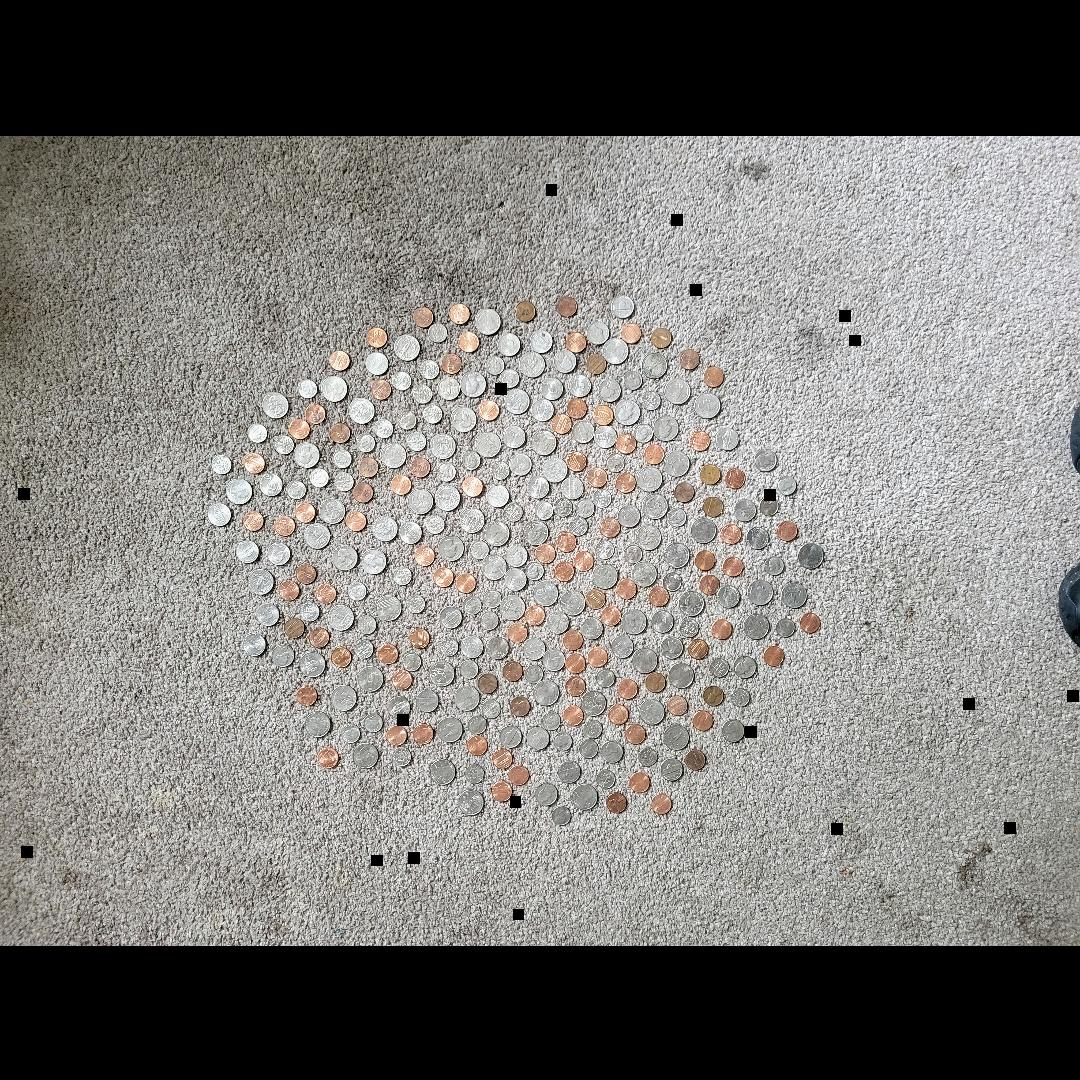Dime: (212, 454, 232, 474), (274, 434, 294, 454), (297, 378, 317, 398), (332, 448, 352, 468), (300, 601, 320, 621), (354, 638, 374, 658), (420, 358, 440, 378), (425, 514, 445, 534), (428, 322, 448, 342), (485, 354, 505, 374), (534, 500, 554, 520), (482, 698, 502, 718), (633, 422, 653, 442), (776, 474, 796, 494), (759, 496, 779, 516), (286, 480, 306, 498), (356, 432, 374, 452), (348, 580, 366, 600), (392, 566, 412, 584), (406, 594, 426, 612), (406, 432, 426, 450), (375, 418, 393, 438), (392, 371, 412, 389), (397, 410, 417, 428), (460, 451, 480, 469), (469, 540, 489, 558), (462, 595, 482, 613), (439, 637, 459, 655), (403, 651, 421, 671), (392, 746, 410, 766), (554, 496, 572, 516), (568, 516, 588, 534), (623, 370, 643, 388), (524, 561, 544, 579), (468, 714, 486, 734), (552, 806, 572, 824), (542, 710, 560, 730), (580, 738, 598, 758), (730, 688, 750, 706), (709, 658, 729, 676), (662, 572, 682, 590), (642, 390, 660, 410), (764, 556, 784, 574), (310, 468, 330, 486), (334, 472, 354, 490), (437, 462, 456, 480), (499, 369, 518, 387), (503, 503, 522, 521), (466, 764, 484, 783), (248, 424, 266, 442), (342, 724, 360, 742), (364, 713, 382, 731), (576, 499, 594, 517), (596, 540, 614, 558), (606, 453, 624, 471), (483, 588, 501, 606), (480, 611, 498, 629), (554, 732, 572, 750), (584, 719, 602, 737), (597, 769, 615, 787), (680, 618, 698, 636), (624, 545, 642, 563), (596, 668, 614, 686), (668, 508, 686, 526), (776, 618, 794, 636), (460, 660, 478, 678), (412, 386, 432, 402), (592, 490, 612, 506), (358, 615, 376, 632), (524, 666, 542, 683), (639, 747, 657, 764), (424, 406, 442, 422), (492, 461, 508, 479)
Nickel: (226, 478, 252, 503), (242, 632, 266, 656), (208, 503, 232, 525), (256, 603, 280, 625), (497, 333, 521, 355), (530, 398, 554, 420), (568, 374, 592, 396), (560, 477, 584, 499), (461, 634, 483, 658), (586, 321, 610, 343), (661, 756, 683, 780), (716, 427, 740, 449), (746, 527, 770, 549), (660, 636, 684, 658), (650, 610, 674, 632), (268, 542, 290, 565), (388, 695, 411, 717), (417, 689, 440, 711), (487, 484, 510, 506), (558, 760, 581, 782), (612, 294, 634, 317), (617, 504, 640, 526), (535, 782, 557, 805), (554, 348, 576, 371), (505, 544, 528, 566), (260, 473, 282, 495), (237, 540, 259, 562), (272, 644, 294, 666), (366, 352, 388, 374), (400, 521, 422, 543), (440, 605, 462, 627), (530, 330, 552, 352), (527, 475, 549, 497), (523, 637, 545, 659), (500, 725, 522, 747), (527, 727, 549, 749), (594, 425, 616, 447), (572, 420, 594, 442), (611, 635, 633, 657), (510, 453, 532, 475), (722, 719, 744, 741), (599, 378, 621, 400), (540, 377, 562, 399), (504, 568, 526, 590), (734, 498, 756, 520), (581, 616, 603, 638), (543, 648, 565, 670), (503, 425, 525, 447), (486, 636, 508, 658), (438, 378, 460, 399), (601, 741, 623, 762), (733, 656, 756, 676), (754, 450, 777, 470), (718, 586, 740, 606), (548, 612, 568, 632)
Penny: (648, 584, 669, 606), (317, 747, 338, 768), (567, 396, 587, 418), (552, 412, 572, 434), (616, 432, 636, 454), (679, 347, 699, 369), (721, 522, 741, 544), (294, 502, 316, 522), (366, 326, 388, 346), (390, 474, 412, 494), (244, 453, 266, 473), (408, 628, 430, 648), (288, 418, 310, 438), (448, 304, 470, 324), (457, 331, 479, 351), (478, 399, 500, 419), (703, 367, 724, 387), (698, 464, 719, 484), (703, 495, 723, 516), (617, 579, 638, 599), (645, 671, 666, 691), (711, 619, 732, 639), (777, 520, 798, 540), (279, 579, 299, 600), (330, 422, 351, 442), (525, 604, 545, 625), (462, 476, 482, 497), (536, 543, 556, 564), (557, 296, 578, 316), (586, 353, 606, 373), (593, 405, 613, 425), (556, 531, 576, 551), (554, 561, 574, 581), (563, 629, 583, 649), (565, 676, 585, 696), (563, 705, 583, 725), (606, 792, 626, 812), (629, 772, 649, 792), (652, 794, 672, 814), (625, 723, 645, 743), (608, 704, 628, 724), (600, 605, 620, 625), (621, 322, 641, 342), (652, 327, 672, 347), (690, 430, 710, 450), (644, 444, 664, 464), (725, 468, 745, 488), (675, 481, 695, 501), (694, 550, 714, 570), (723, 555, 743, 575), (667, 695, 687, 715), (685, 750, 705, 770), (692, 710, 712, 730), (703, 685, 723, 705), (800, 612, 820, 632), (763, 646, 783, 666), (306, 403, 326, 423), (346, 510, 366, 530), (353, 482, 373, 502), (371, 378, 391, 398), (413, 306, 433, 326), (414, 546, 434, 566), (378, 643, 398, 663), (392, 668, 412, 688), (492, 780, 512, 800), (509, 765, 529, 785), (510, 696, 530, 716), (502, 662, 522, 682), (456, 572, 476, 592), (243, 511, 263, 531), (516, 302, 536, 322), (584, 590, 606, 608), (412, 724, 434, 742), (506, 624, 528, 642), (566, 332, 586, 351), (688, 640, 708, 659), (310, 627, 329, 647), (332, 647, 351, 667), (330, 350, 350, 369), (434, 567, 454, 586), (441, 353, 460, 373), (295, 564, 316, 582), (283, 618, 304, 636), (566, 452, 586, 470), (588, 467, 606, 487), (573, 551, 593, 569), (566, 652, 584, 672), (618, 678, 636, 698), (588, 648, 608, 666), (600, 518, 620, 536), (616, 473, 636, 491), (700, 574, 718, 594), (274, 516, 294, 534), (316, 584, 336, 602), (297, 686, 317, 704), (358, 458, 378, 476), (410, 458, 430, 476), (492, 749, 512, 767), (468, 736, 488, 754), (478, 674, 498, 692), (388, 726, 406, 744)
Quarter: (694, 392, 722, 418), (664, 378, 691, 404), (530, 429, 557, 455), (668, 662, 694, 688), (678, 590, 704, 616), (690, 517, 716, 543), (664, 450, 690, 476), (653, 414, 679, 440), (642, 351, 668, 377), (602, 337, 628, 363), (636, 465, 662, 491), (632, 646, 658, 672), (572, 783, 598, 809), (592, 562, 618, 588), (504, 388, 530, 414), (475, 430, 501, 456), (450, 405, 476, 431), (460, 370, 486, 396), (435, 484, 461, 510), (407, 488, 433, 514), (380, 442, 406, 468), (499, 593, 525, 619), (454, 684, 480, 710), (437, 716, 463, 742), (353, 742, 379, 768), (376, 594, 402, 620), (304, 522, 330, 548), (320, 498, 346, 524), (248, 568, 274, 594), (294, 441, 320, 467), (475, 308, 501, 334), (320, 376, 348, 400), (542, 456, 567, 482), (394, 334, 419, 360), (431, 432, 456, 458), (431, 758, 456, 784), (329, 604, 354, 630), (332, 544, 357, 570), (798, 542, 822, 568), (747, 580, 773, 604), (781, 583, 807, 607), (744, 612, 768, 638), (664, 542, 690, 566), (614, 400, 640, 424), (642, 494, 668, 518), (632, 560, 656, 586), (622, 608, 646, 634), (640, 698, 664, 724), (560, 590, 586, 614), (460, 506, 484, 532), (372, 516, 398, 540), (362, 547, 386, 573), (438, 536, 464, 560), (484, 520, 510, 544), (430, 660, 454, 686), (460, 788, 484, 814), (358, 666, 384, 690), (332, 684, 356, 710), (306, 710, 330, 736), (300, 652, 326, 676), (262, 392, 288, 416), (535, 680, 560, 704), (520, 351, 544, 376), (664, 724, 688, 748), (636, 525, 660, 549), (582, 690, 606, 714), (534, 580, 558, 604), (524, 520, 548, 544), (350, 398, 374, 422), (482, 554, 506, 578)
